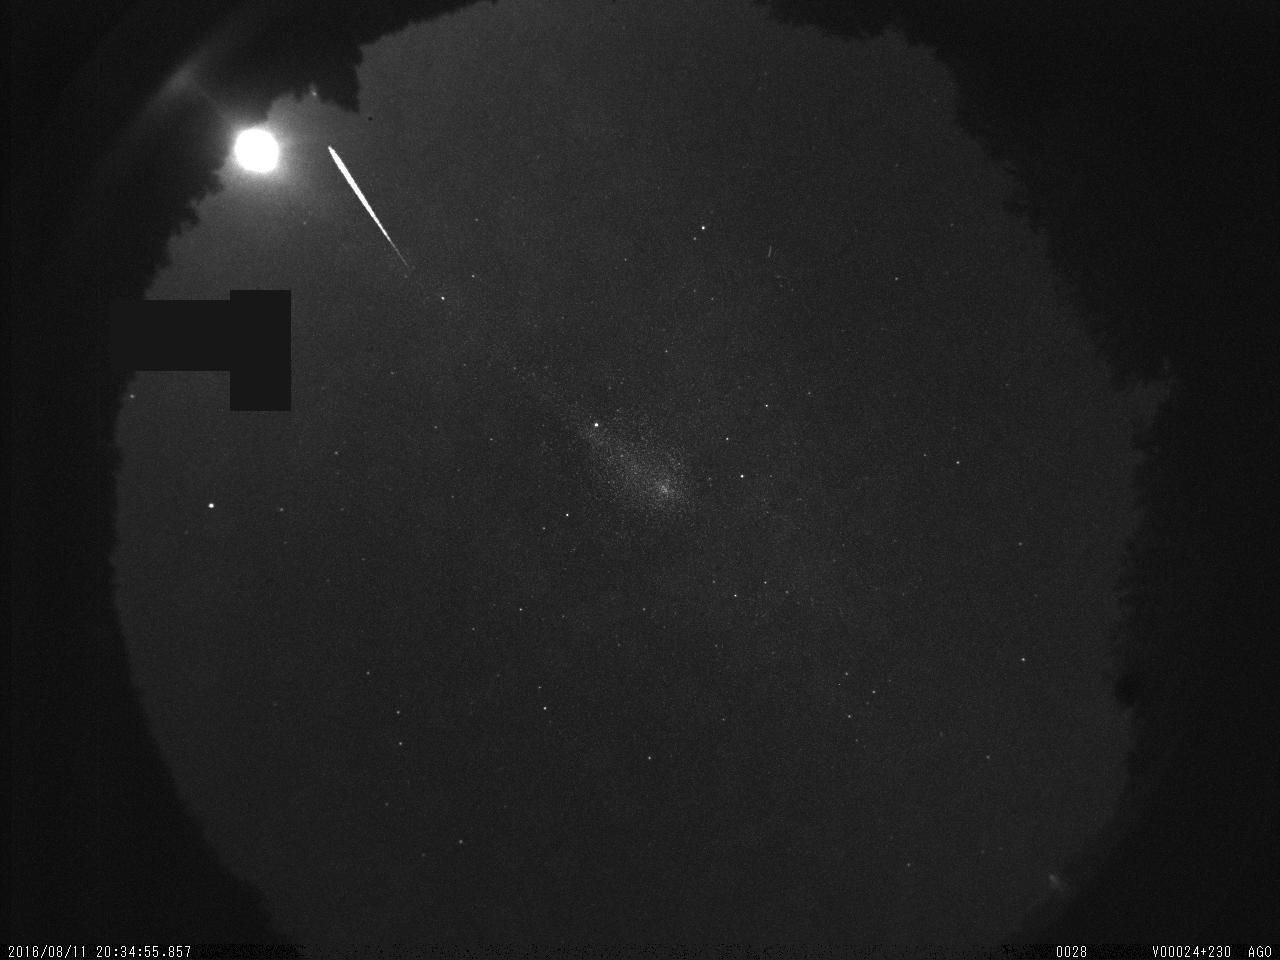meteor: (317, 134, 424, 278)
